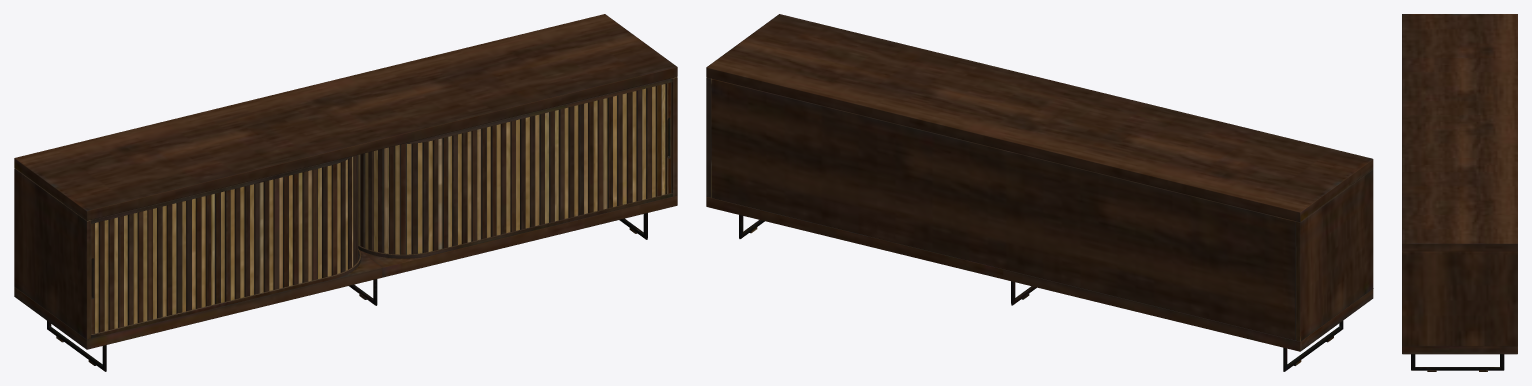
File: modern_wooden_cabinet.glb
3 views of the same model, side by side, from view 1: azimuth 30°, elevation 25°; view 2: azimuth 150°, elevation 25°; view 3: azimuth 270°, elevation 25° (orthographic). The views are drawn at different scales.
Parts seen in each view (by area): view 1: modern_wooden_cabinet_body, modern_wooden_cabinet_door_r, modern_wooden_cabinet_door_l; view 2: modern_wooden_cabinet_body; view 3: modern_wooden_cabinet_body.
Boxes of the visible parts, left/top/right/bottom form: modern_wooden_cabinet_body: left=14, top=14, right=677, bottom=371; modern_wooden_cabinet_door_r: left=358, top=82, right=671, bottom=254; modern_wooden_cabinet_door_l: left=91, top=155, right=358, bottom=334; modern_wooden_cabinet_body: left=706, top=14, right=1373, bottom=371; modern_wooden_cabinet_body: left=1402, top=14, right=1517, bottom=371.
Bounding box in the file's own units: 2.44 × 0.6806 × 0.5197.
1 material, 1 textured.
